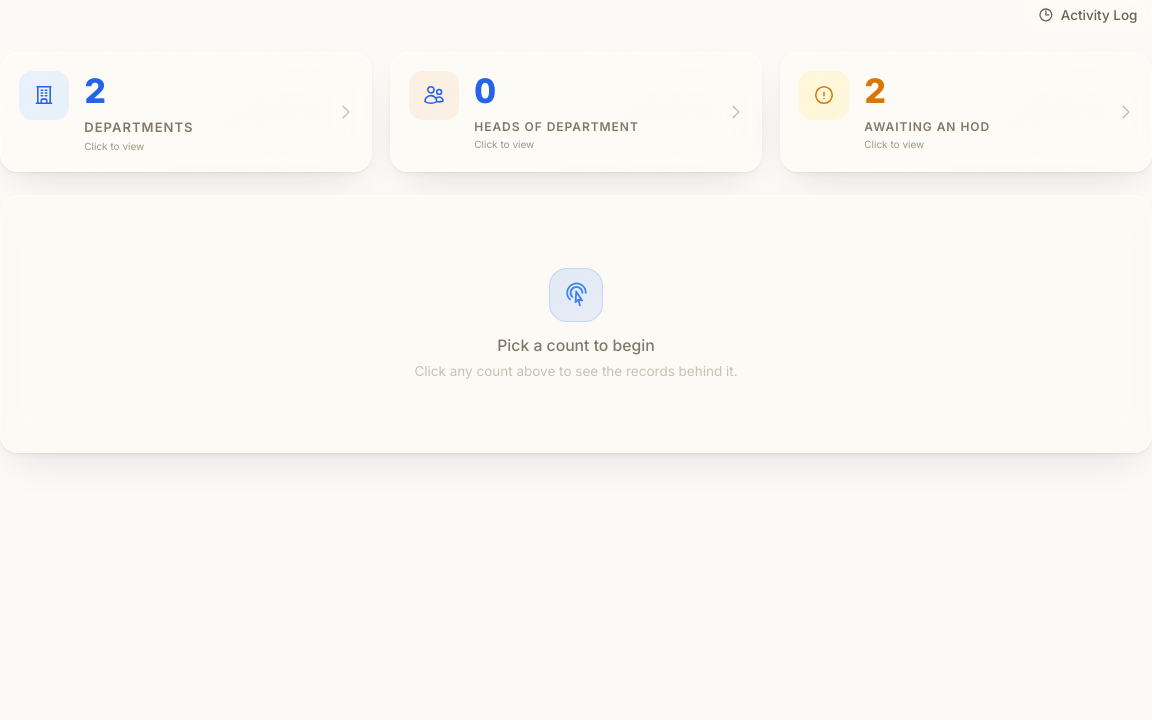
Test: AdminPanel â€” department list › renders each department with its name and code
Click the button "2 Departments Click to view" at (44, 95), box x1=0 y1=52 x2=372 y2=172
(page scrolled)
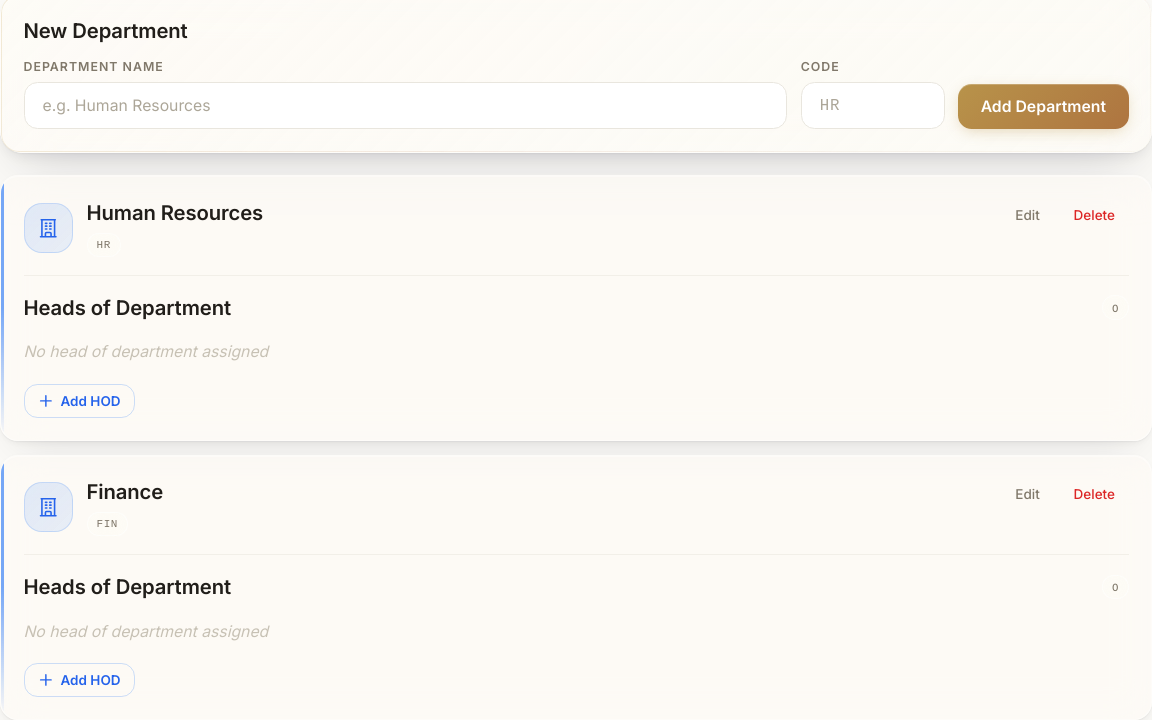
Check: the heading "Human Resources" is shown, box x1=86 y1=199 x2=263 y2=226
Check: the text "HR" is shown, box x1=86 y1=232 x2=121 y2=257
Check: the heading "Finance" is shown, box x1=86 y1=478 x2=163 y2=505
